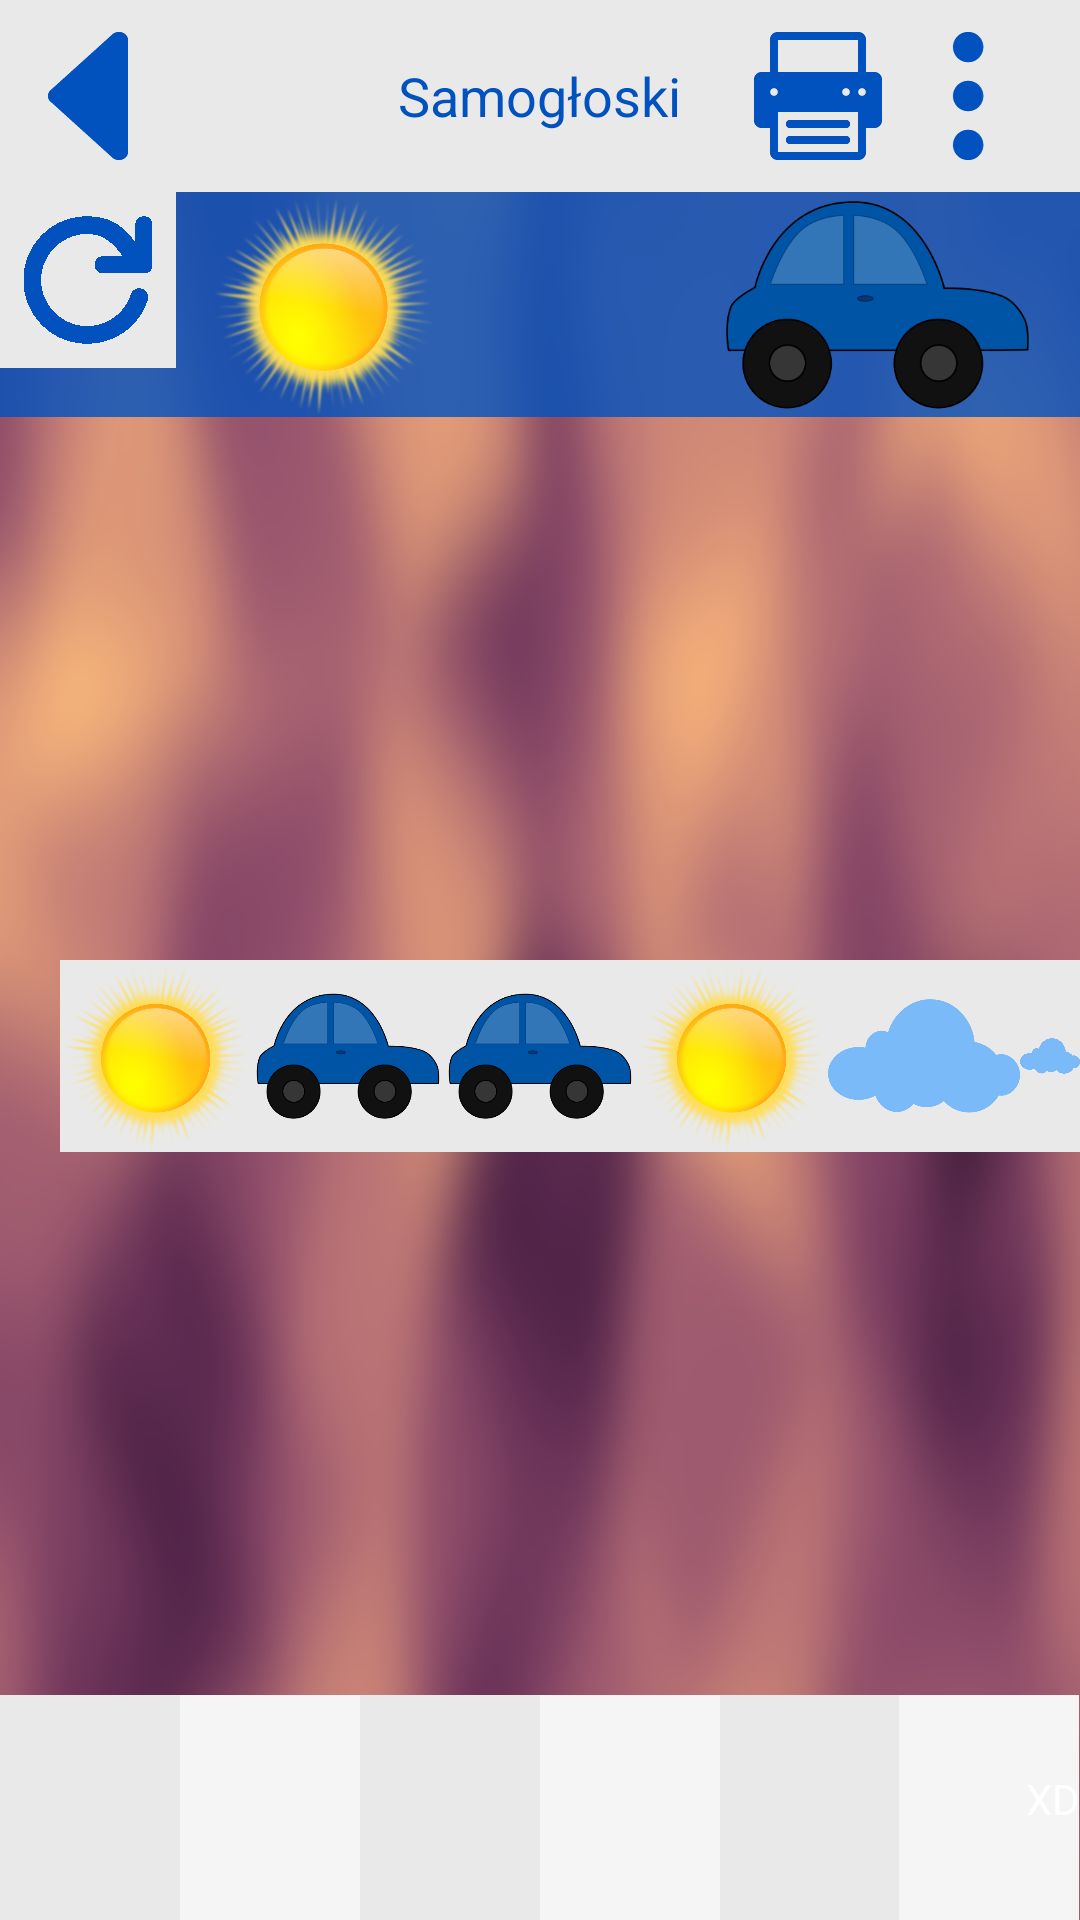

Named icons in this screenshot (1080w x 1920h) and their centers, point (x, y):
cloud: point (924, 1056), point (1050, 1056)
Przycisk powrotu: point (88, 96)
Przycisk ustawień: point (968, 96)
Przycisk wydruku: point (818, 96)
